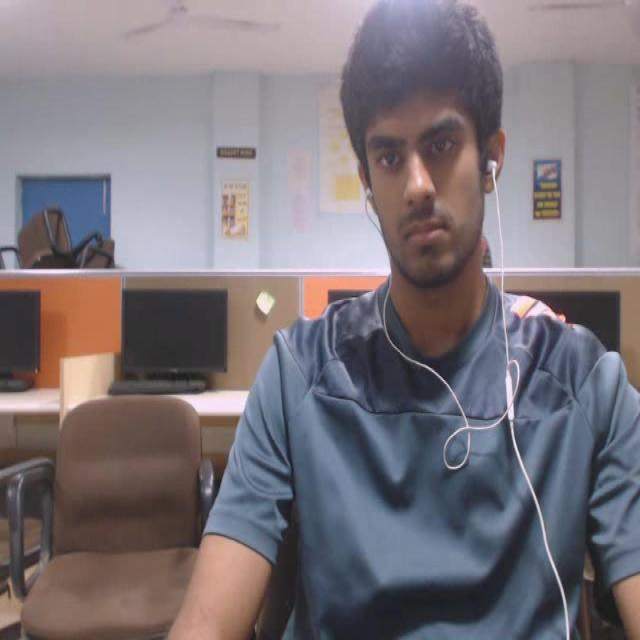Engaged: (318, 2, 514, 288)
